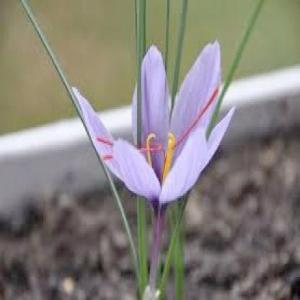Saffron: (76, 42, 234, 228)
